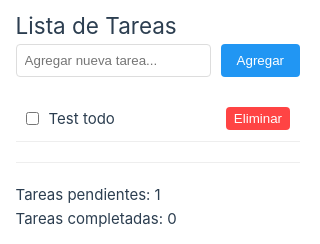
Test: TodoList › toggles todo completion status
Click the checkbox at point(32, 118), box [26,112,39,125]
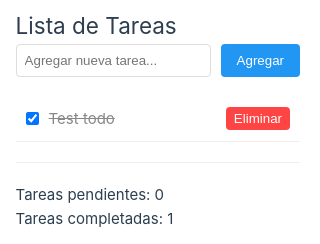
Check: the text "Test todo" is shown, box [49,106,115,130]
